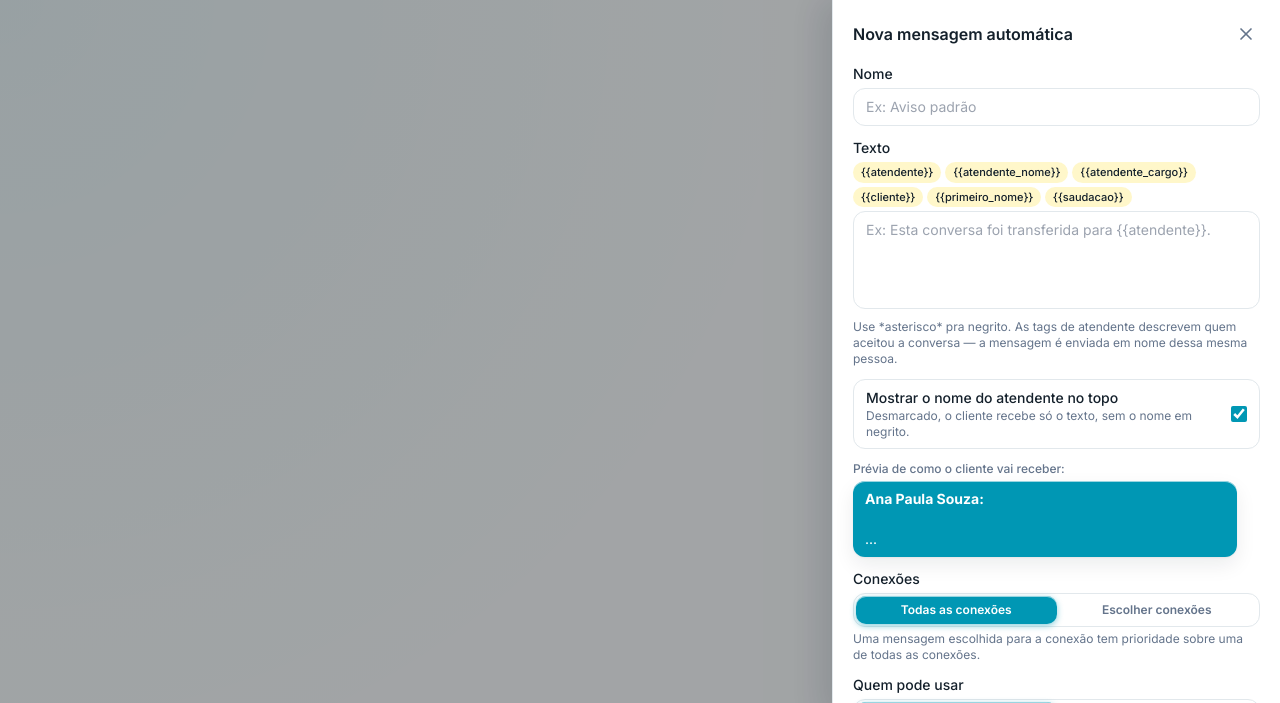
Test: Respostas › Aceite: quem pode usar a mensagem › escolher usuários sem marcar ninguém não salva
Step 1. Type "Ninguém" into the field with placeholder "Ex: Aviso padrão" → (1056, 107), box top-left (853, 88), bottom-right (1260, 126)
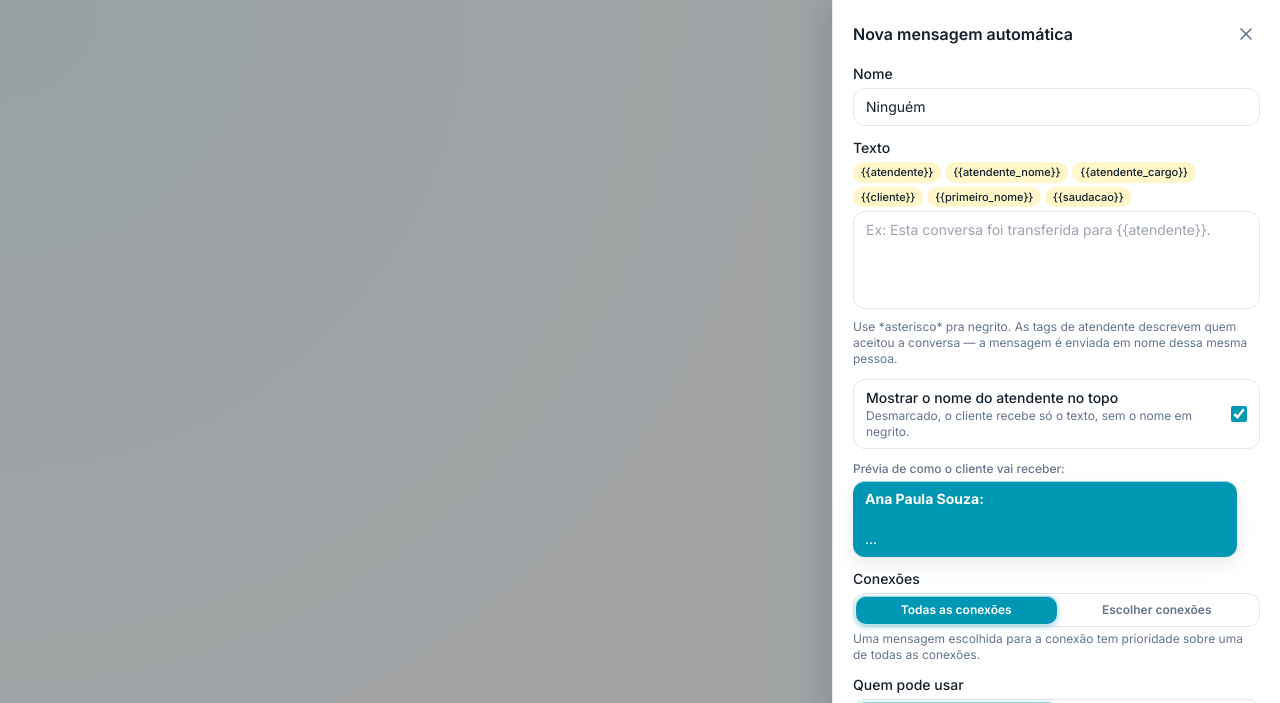
Step 2. Type "Oi" into the text box → (1056, 260), box top-left (853, 211), bottom-right (1260, 309)
(page scrolled)
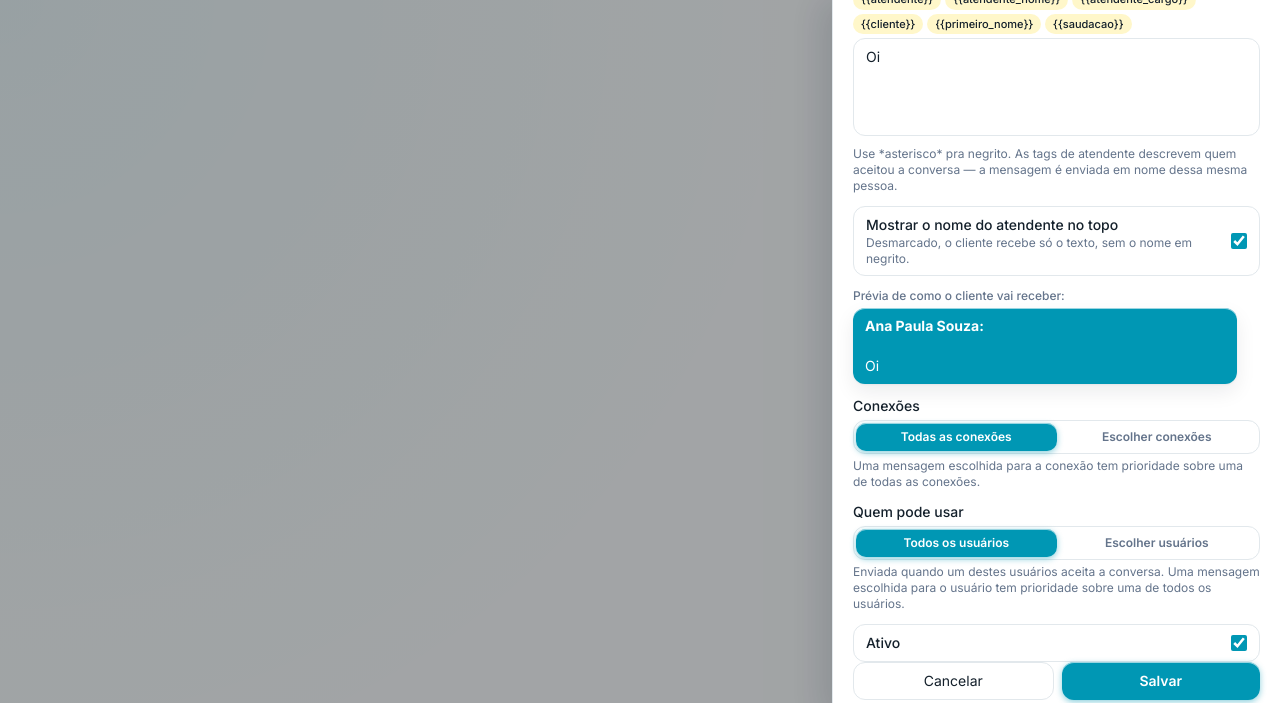
Step 3. Click the radio button labelled "Escolher usuários" → (1157, 543), box top-left (1056, 529), bottom-right (1257, 557)
(page scrolled)
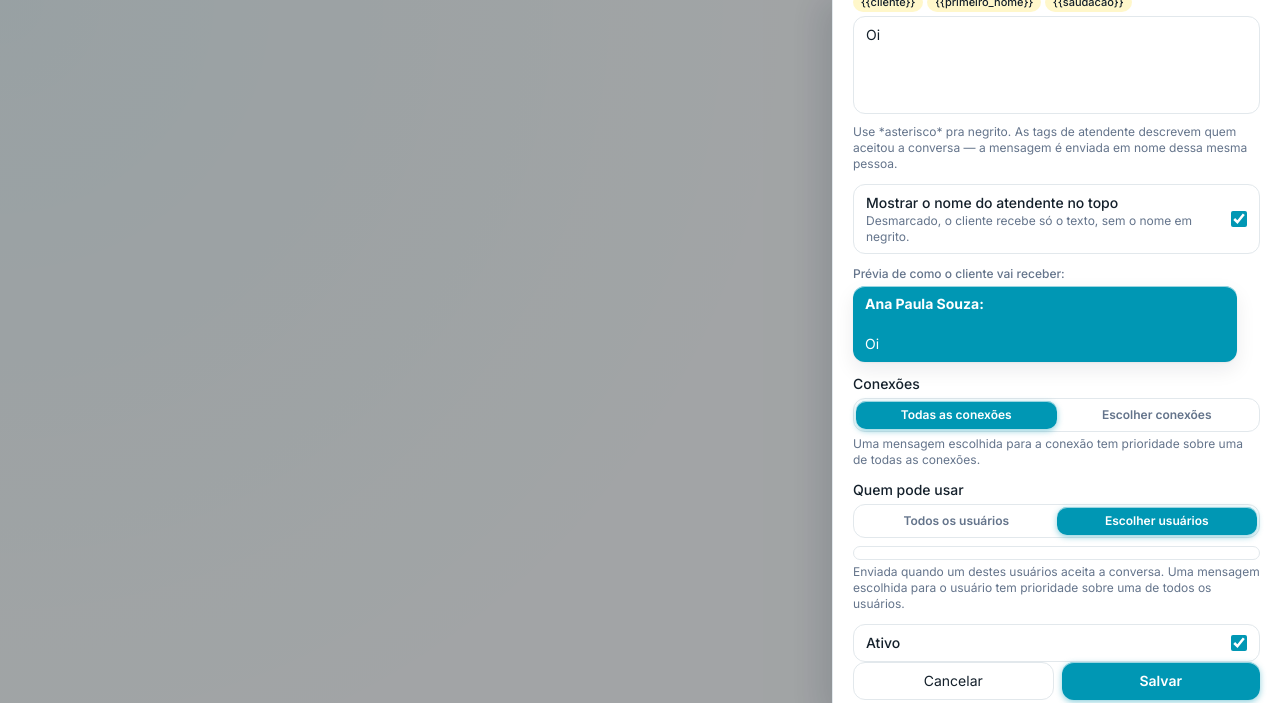
Step 4. Click the button "Salvar" → (1161, 681), box top-left (1062, 662), bottom-right (1260, 700)
(page scrolled)
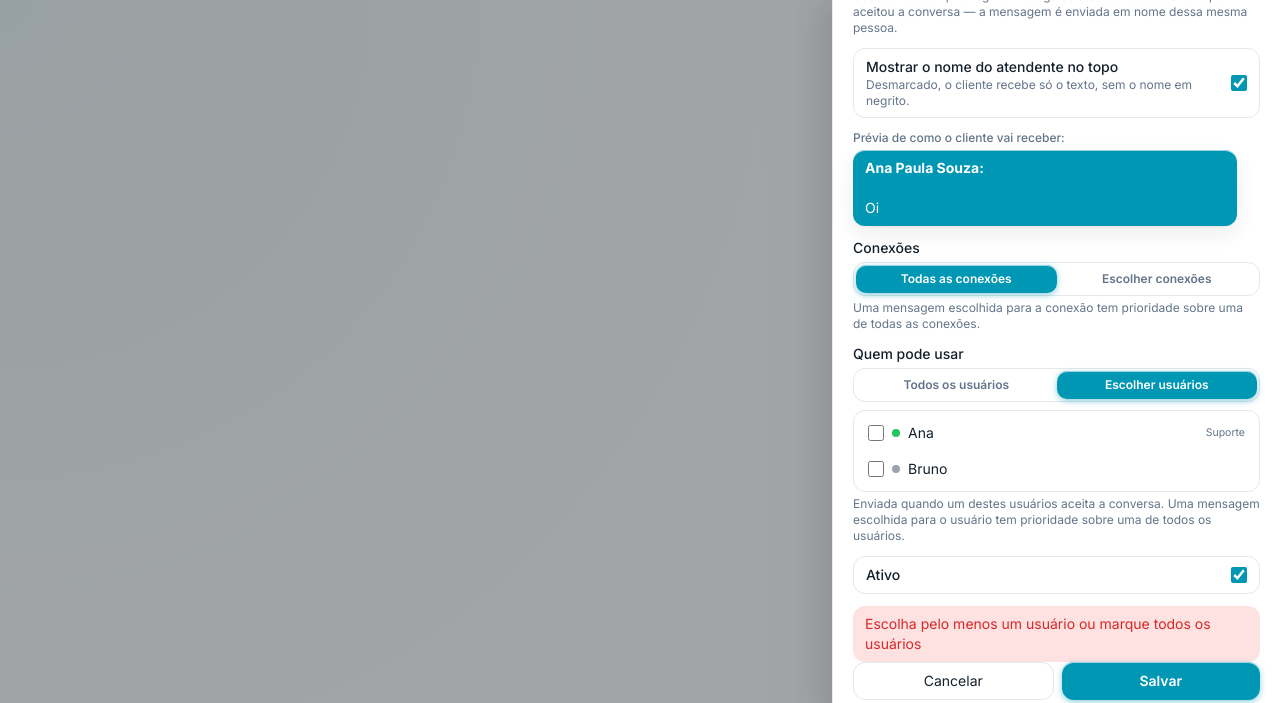
Check: the text "Escolha pelo menos um usuário ou marque todos os usuários" is shown, box top-left (853, 606), bottom-right (1260, 662)
